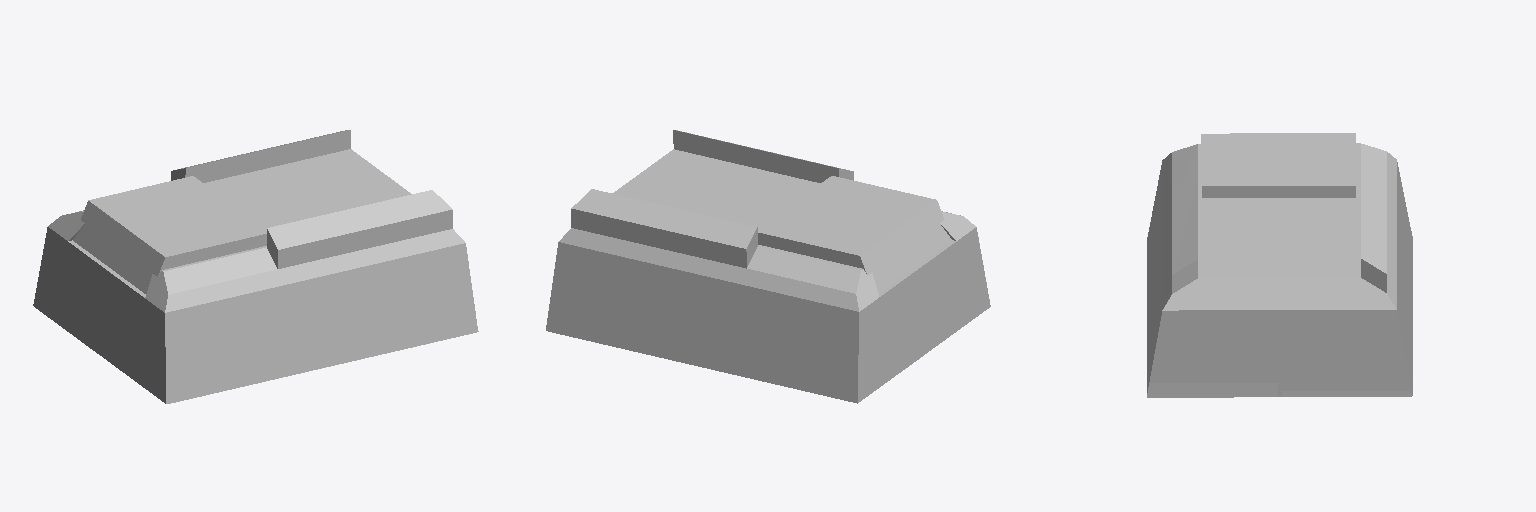
File: Robot_NEW_.obj
The picture shows the model from 3 angles: view 1: azimuth 30°, elevation 25°; view 2: azimuth 150°, elevation 25°; view 3: azimuth 270°, elevation 25°; orthographic projection.
Parts seen in each view (by area): view 1: pCube43 robot CTRL_ROBOT Robot, robot CTRL_ROBOT Robot pCube71; view 2: pCube43 robot CTRL_ROBOT Robot, robot CTRL_ROBOT Robot pCube71; view 3: pCube43 robot CTRL_ROBOT Robot, robot CTRL_ROBOT Robot pCube71, robot CTRL_ROBOT Robot puerta_izq, robot CTRL_ROBOT Robot puerta_derecha.
Part boxes in pixels (x1,y1,x2,y2): pCube43 robot CTRL_ROBOT Robot: (33, 149, 477, 403); robot CTRL_ROBOT Robot pCube71: (73, 130, 452, 293); pCube43 robot CTRL_ROBOT Robot: (546, 149, 990, 403); robot CTRL_ROBOT Robot pCube71: (571, 130, 951, 292); pCube43 robot CTRL_ROBOT Robot: (1147, 143, 1412, 396); robot CTRL_ROBOT Robot pCube71: (1172, 133, 1386, 293); robot CTRL_ROBOT Robot puerta_izq: (1147, 383, 1277, 397); robot CTRL_ROBOT Robot puerta_derecha: (1282, 391, 1411, 396).
Size of the model in its own units: 1.29 by 0.5182 by 0.9551.